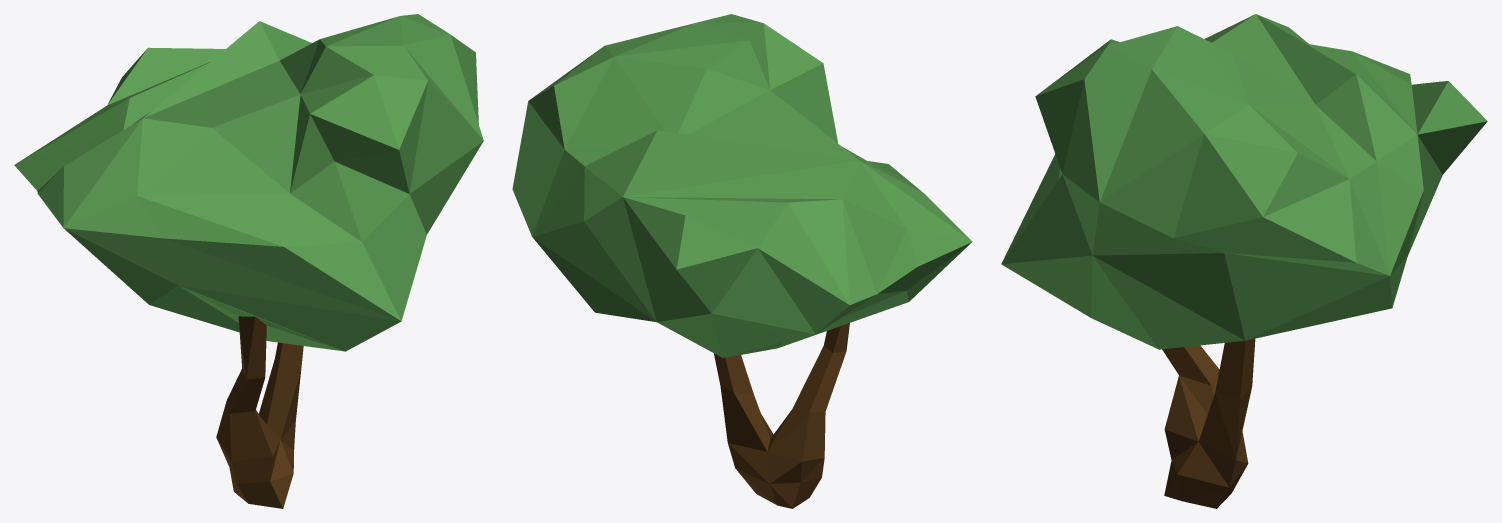
Rendered from Env_Bush02_2.fbx.
3 renders of one model, left to right at view 1: azimuth 30°, elevation 25°; view 2: azimuth 150°, elevation 25°; view 3: azimuth 270°, elevation 25°, orthographic. The views are drawn at different scales.
Parts seen in each view (by area): view 1: Env_Bush02_2; view 2: Env_Bush02_2; view 3: Env_Bush02_2.
Part boxes in pixels (x1,y1,x2,y2): Env_Bush02_2: [14, 14, 483, 508]; Env_Bush02_2: [512, 14, 972, 508]; Env_Bush02_2: [1001, 14, 1487, 508].
Size of what is drawn, in the model's own units: 182 by 158 by 178.
